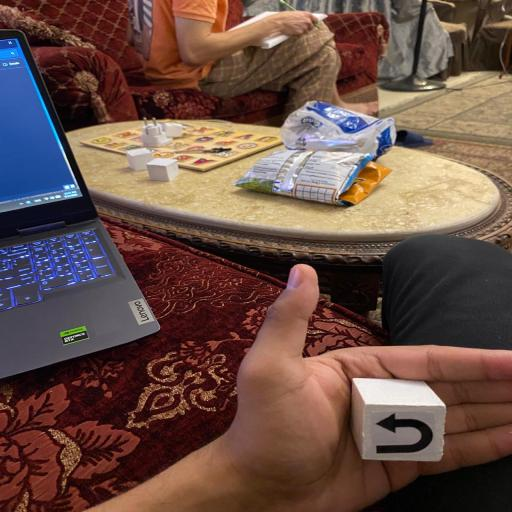Undo: (346, 374, 448, 464)
